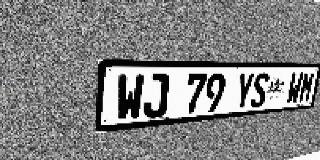7: (183, 73, 207, 115)
9: (203, 73, 227, 113)
J: (143, 74, 169, 119)
M: (298, 72, 315, 103)
S: (250, 73, 270, 108)
W: (116, 74, 144, 122), (285, 72, 304, 105)
Y: (233, 73, 255, 110)
